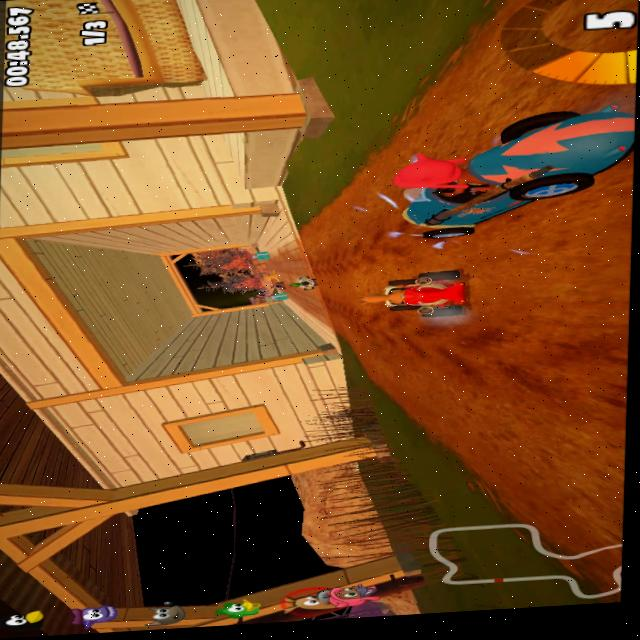bonus: (248, 244, 276, 261), (267, 289, 289, 300)
enemy_kart: (397, 99, 636, 245), (286, 273, 321, 289)
player_kart: (359, 265, 478, 321)
track: (482, 231, 623, 486), (391, 314, 483, 400), (329, 192, 356, 340), (356, 321, 390, 373), (447, 395, 476, 450), (284, 224, 319, 268), (303, 289, 326, 322), (258, 265, 276, 280)
